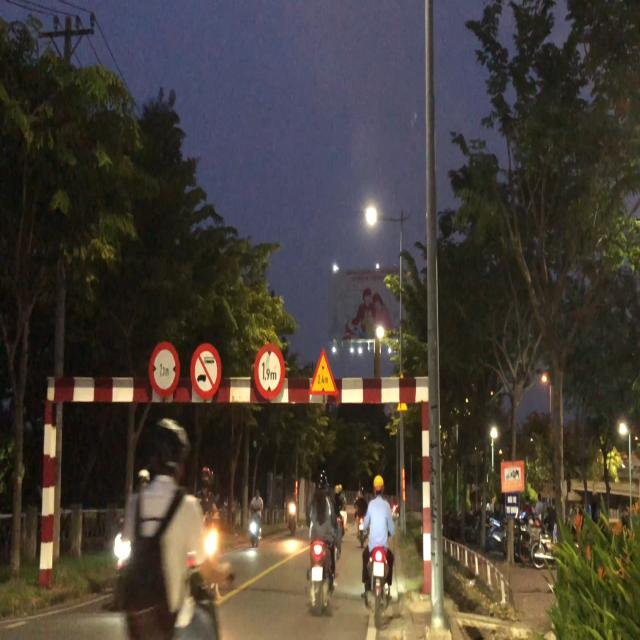Bien bao cam xe oto khach va xe oto tai: (186, 341, 222, 401)
Bien bao chieu cao tinh khong thuc te: (307, 346, 341, 408)
Bien bao han che chieu cao: (251, 338, 288, 405)
